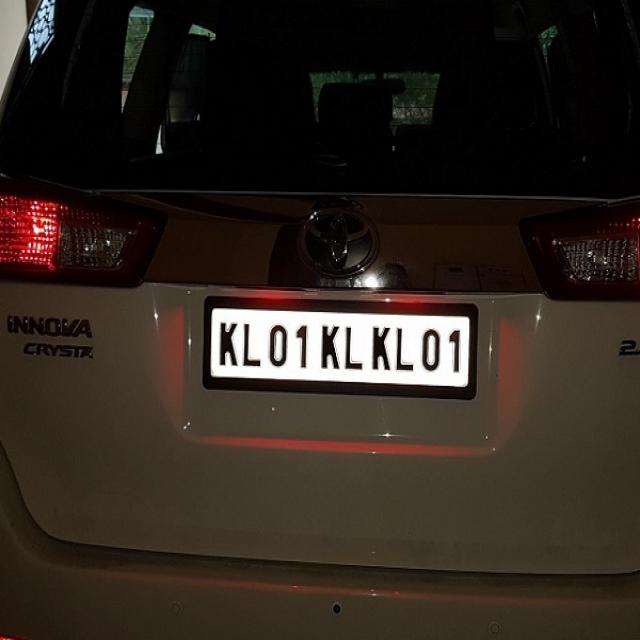license-plate: (210, 306, 468, 384)
